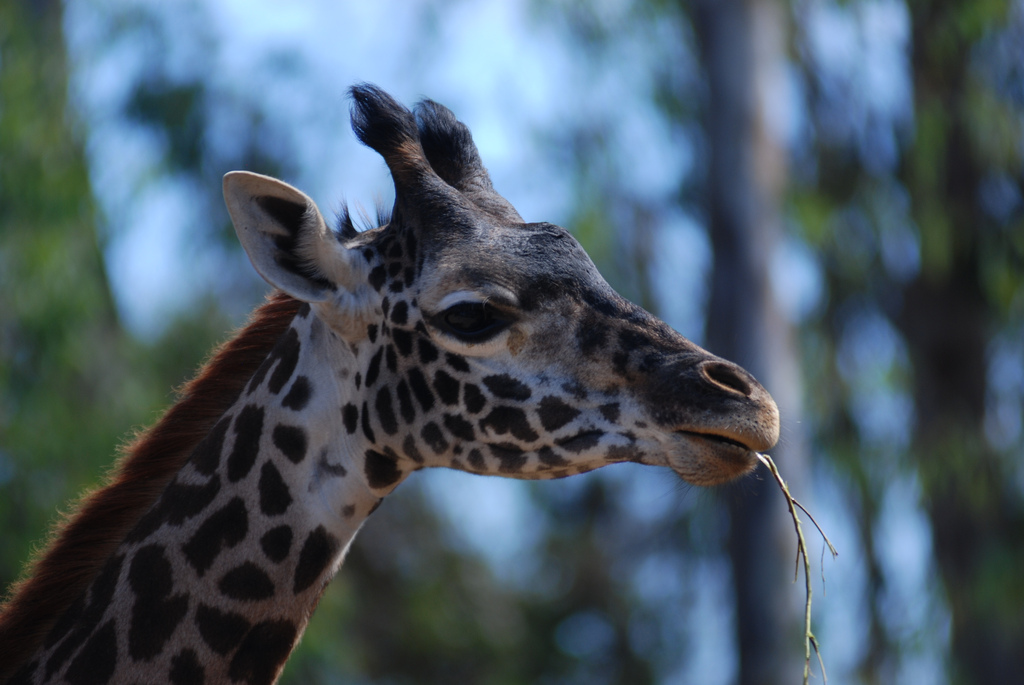giraffe: (71, 87, 790, 649)
